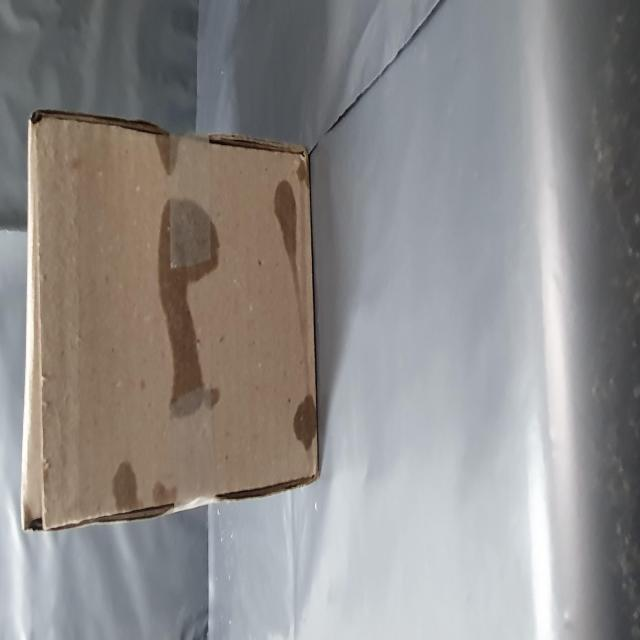wet: (119, 264, 289, 409), (85, 472, 281, 578)
